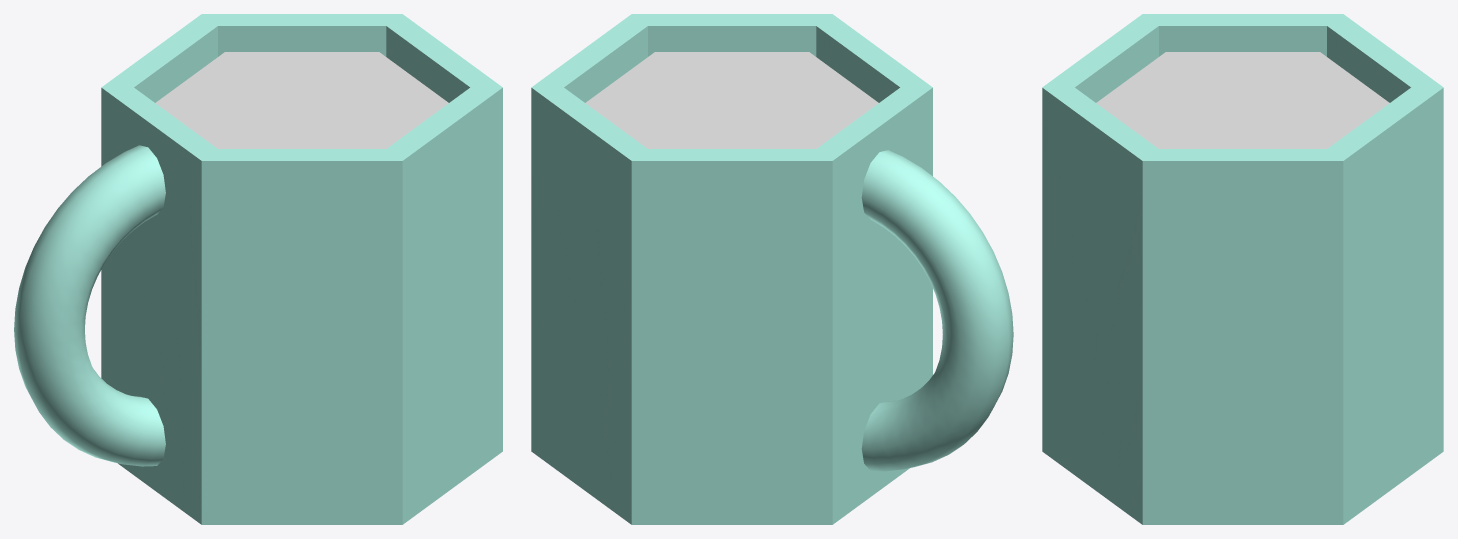
Rendered from Beer_light.glb.
The picture shows the model from 3 angles, left to right: view 1: azimuth 30°, elevation 25°; view 2: azimuth 150°, elevation 25°; view 3: azimuth 270°, elevation 25°; orthographic projection.
Visible parts, largest first — view 1: Torus, Cylinder.001; view 2: Torus, Cylinder.001; view 3: Torus, Cylinder.001.
Boxes of the visible parts, left/top/right/bottom form: Torus: left=14, top=14, right=502, bottom=524; Cylinder.001: left=155, top=52, right=448, bottom=148; Torus: left=531, top=14, right=1013, bottom=524; Cylinder.001: left=585, top=52, right=878, bottom=148; Torus: left=1042, top=14, right=1443, bottom=524; Cylinder.001: left=1096, top=52, right=1389, bottom=148.
Size of the model in its own units: 2.39 by 1.93 by 1.93.
